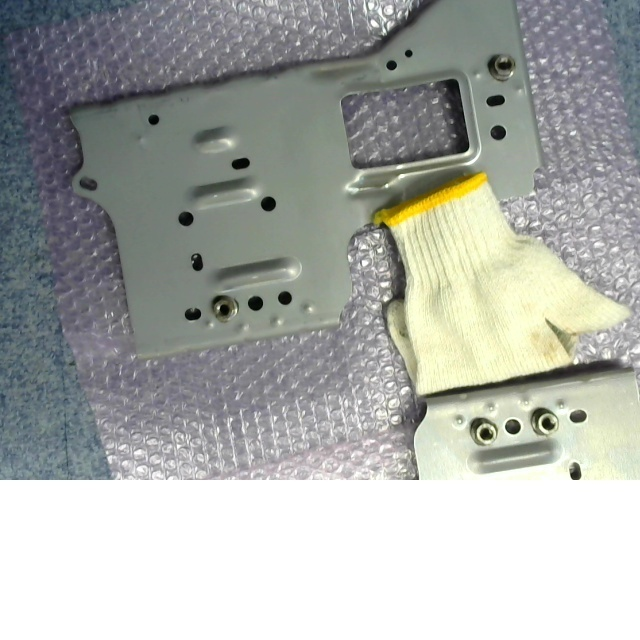dog: (530, 408, 560, 438), (469, 416, 498, 446), (487, 54, 517, 82), (211, 295, 238, 323)
